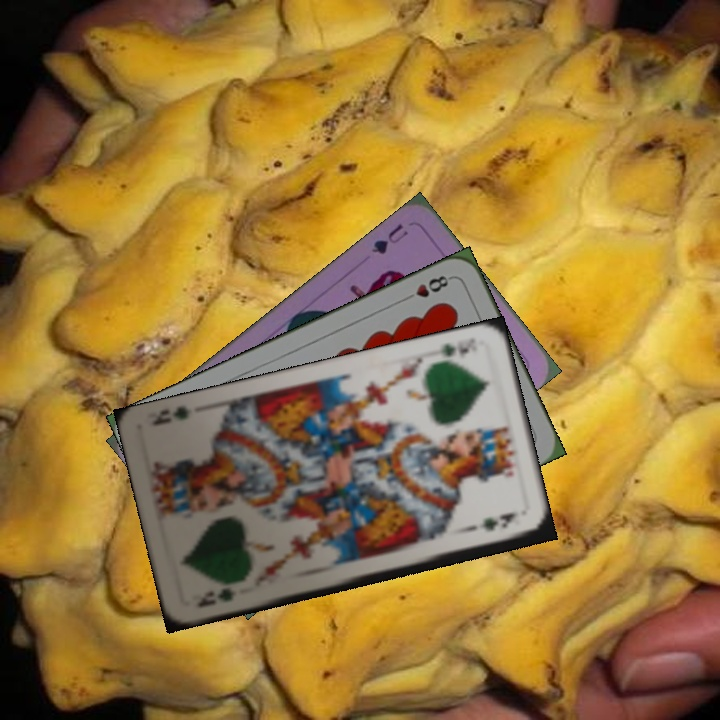GK: (435, 333, 480, 361), (192, 584, 239, 610)
GU: (367, 219, 411, 258)
H8: (399, 271, 455, 304)
